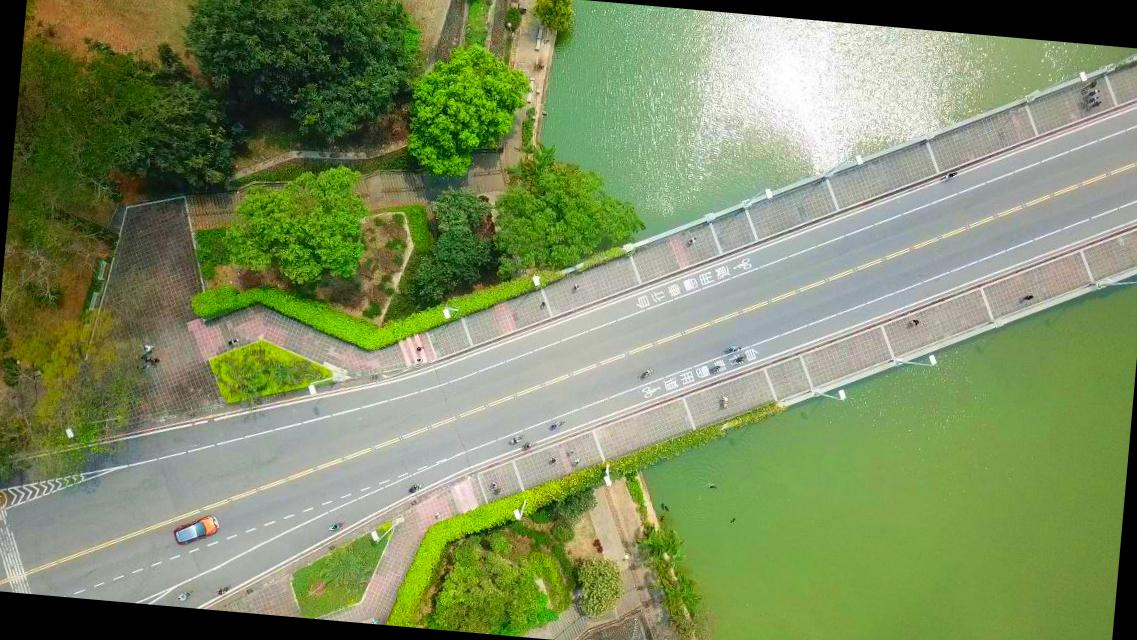vehicle: (170, 512, 220, 550)
